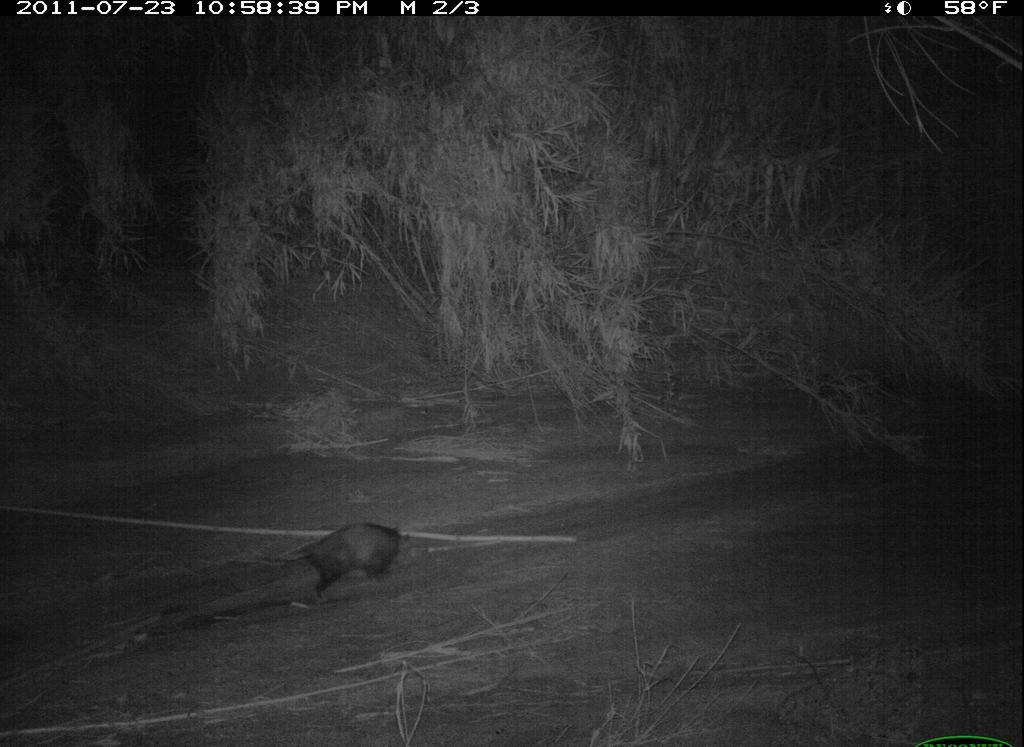opossum: (259, 516, 424, 602)
